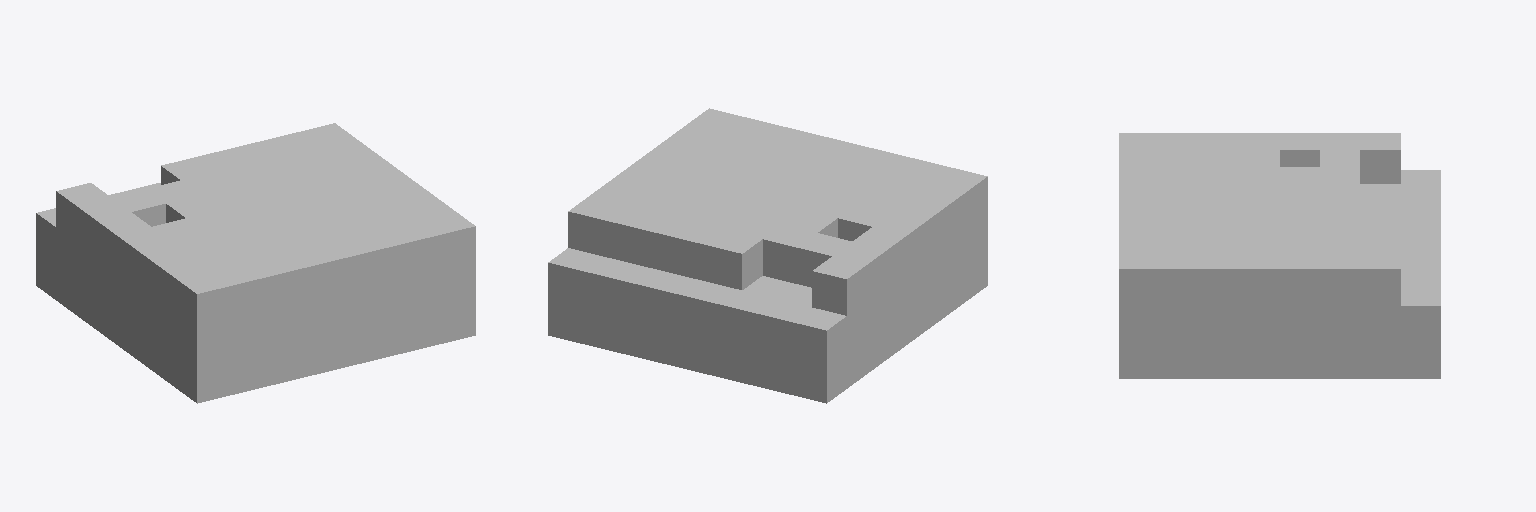
Rendered from Road Half 3.obj.
The picture shows the model from 3 angles: view 1: azimuth 30°, elevation 25°; view 2: azimuth 150°, elevation 25°; view 3: azimuth 270°, elevation 25°; orthographic projection.
Parts seen in each view (by area): view 1: object 1; view 2: object 1; view 3: object 1.
Boxes of the visible parts, x1=… form: object 1: x1=36, y1=123, x2=475, y2=403; object 1: x1=548, y1=108, x2=987, y2=403; object 1: x1=1119, y1=133, x2=1440, y2=378.
Size of the model in its own units: 0.8 by 0.3 by 0.8.